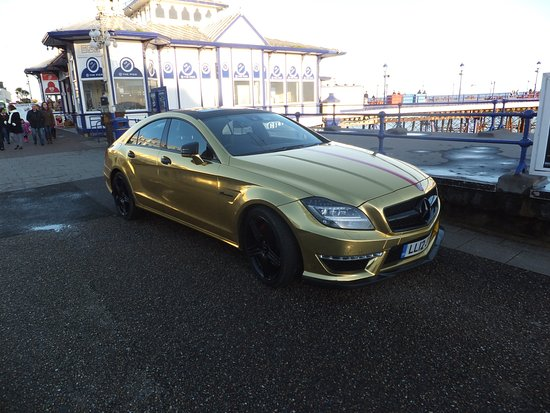car: (106, 106, 443, 289)
